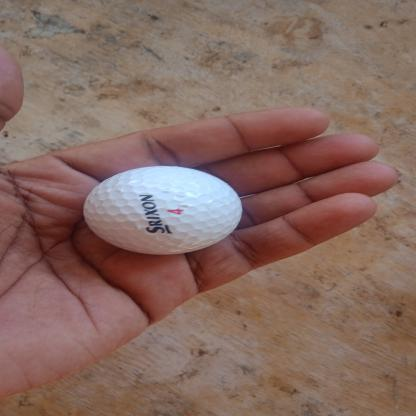Golf: (77, 164, 251, 258)
